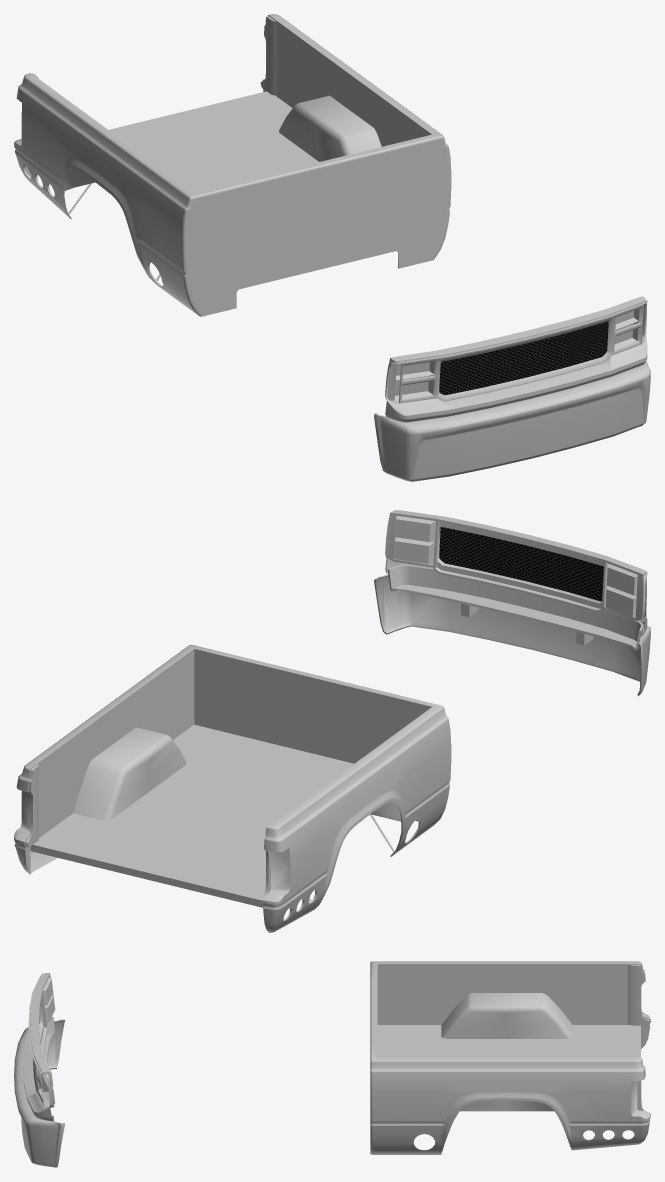
File: evil.dae
3 renders of one model, top to bottom at view 1: azimuth 30°, elevation 25°; view 2: azimuth 150°, elevation 25°; view 3: azimuth 270°, elevation 25°, orthographic. The views are drawn at different scales.
Parts seen in each view (by area): view 1: pickup_bed_holes, pickup_fascia_altb_tha, pickup_bumper_F_altb_tha; view 2: pickup_bed_holes, pickup_fascia_altb_tha, pickup_bumper_F_altb_tha; view 3: pickup_bed_holes, pickup_fascia_altb_tha, pickup_bumper_F_altb_tha.
Boxes of the visible parts, x1,y1,x2,y2 form: pickup_bed_holes: (14, 14, 451, 316); pickup_fascia_altb_tha: (385, 296, 647, 422); pickup_bumper_F_altb_tha: (374, 361, 650, 481); pickup_bed_holes: (14, 644, 451, 932); pickup_fascia_altb_tha: (385, 510, 647, 650); pickup_bumper_F_altb_tha: (374, 574, 650, 695); pickup_bed_holes: (370, 961, 650, 1154); pickup_fascia_altb_tha: (23, 972, 55, 1121); pickup_bumper_F_altb_tha: (14, 1019, 65, 1167).
Bounding box in the file's own units: 1.94 × 4.86 × 0.9052.
2 materials, 1 textured.
